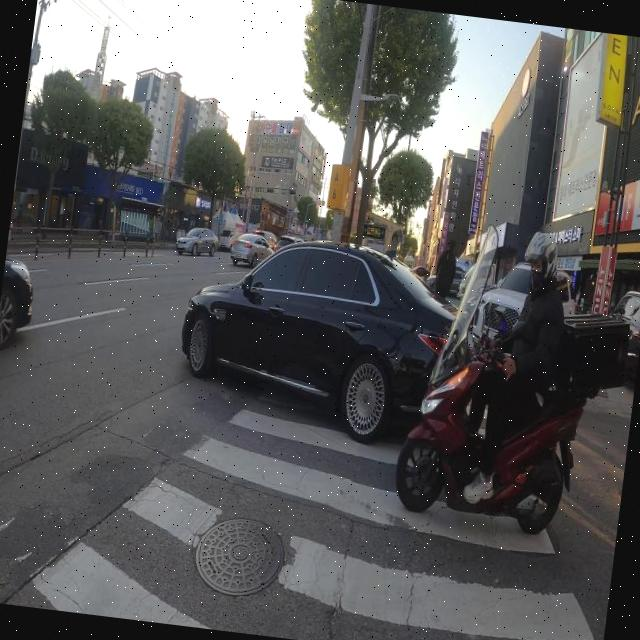crosswalk: (1, 367, 594, 640)
